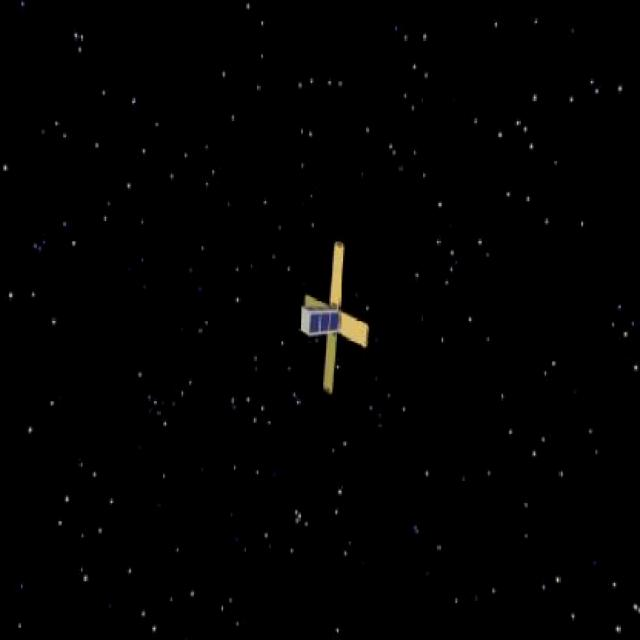medium_debris: (283, 239, 387, 396)
